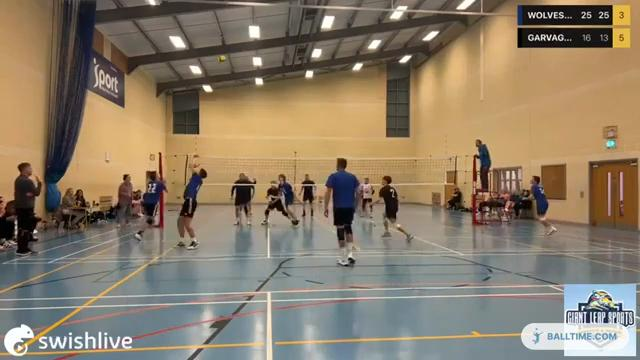alzata: (174, 151, 209, 252)
